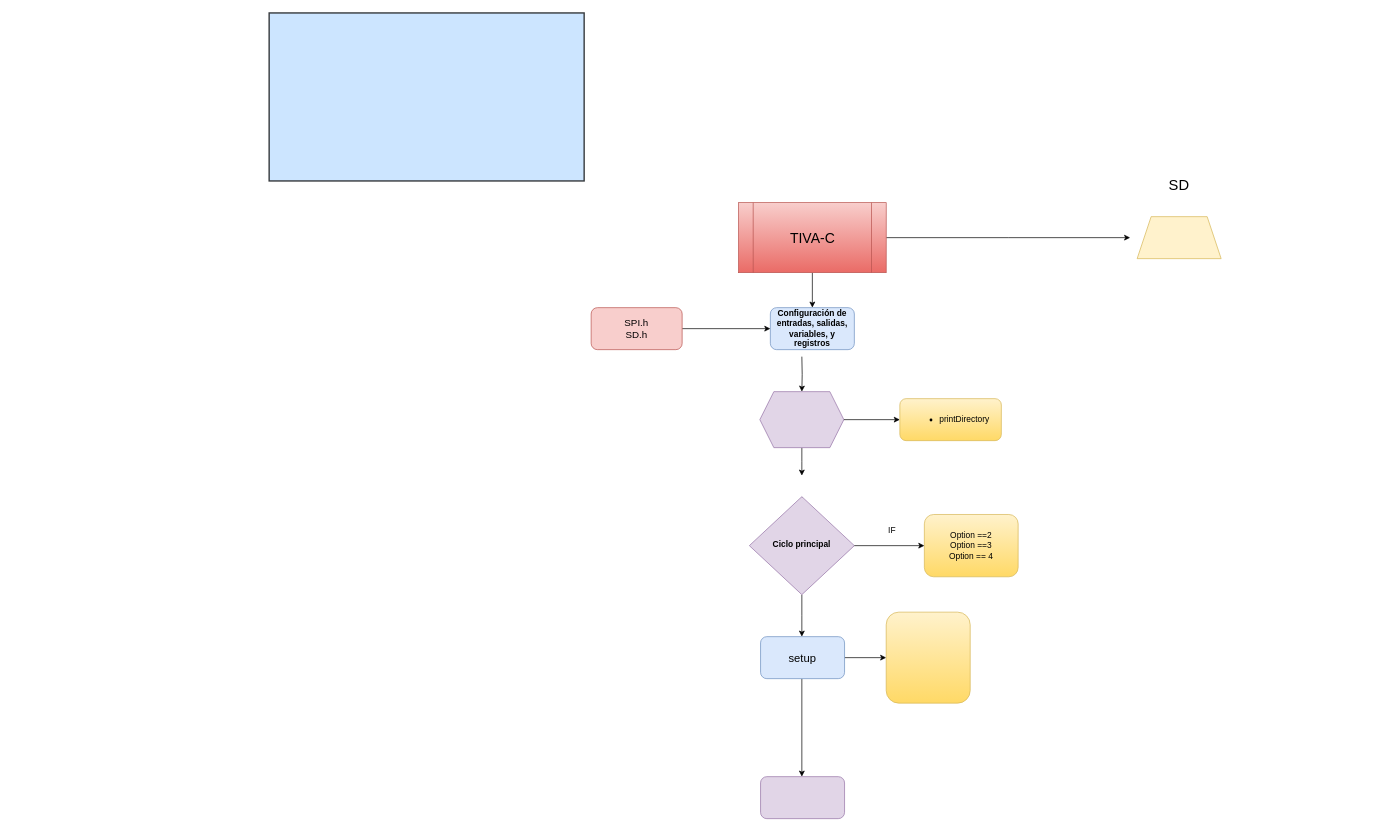
The diagram is 1388 pixels wide and 831 high, and some of its shapes have lost their labels. Here are the shapes that lost their labels. From the top down, the centre of each, then its label:
At point 426,96: "Laboratorio 5".
At point 801,419: "FUNCIONES".
At point 928,657: "Serial Begin 115200 SPI.setModile(0) pinMode(PA_3)".
At point 802,797: "RETURN".
